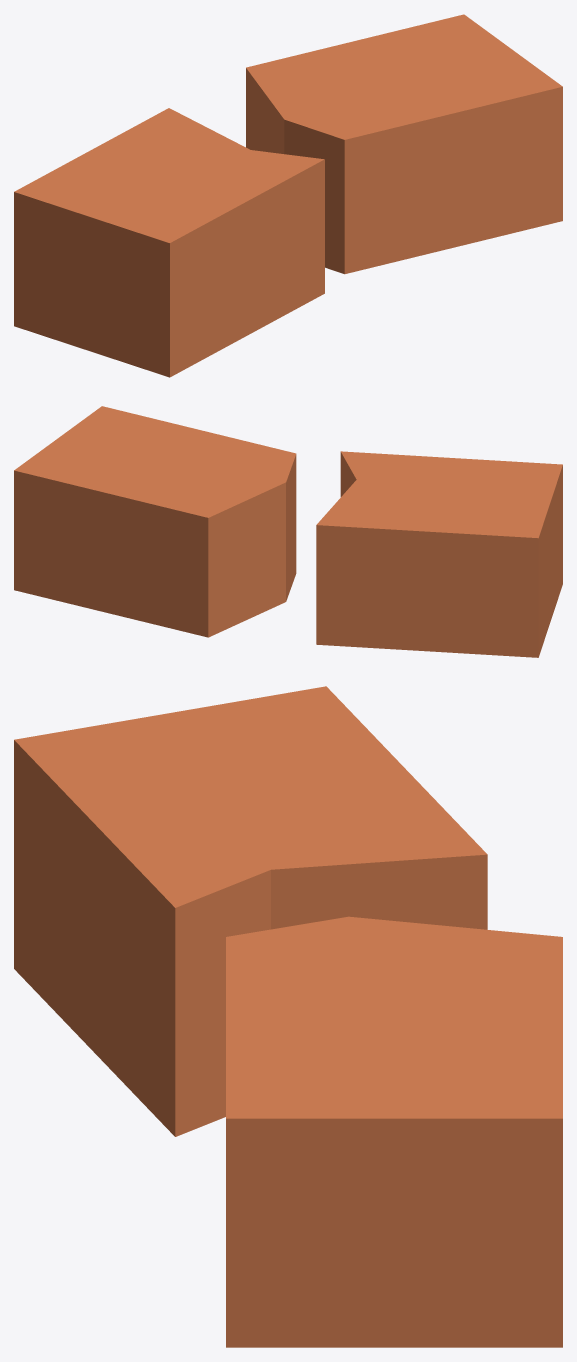
Rendered from Brick_crk_01.fbx.
The picture shows the model from 3 angles, top to bottom: view 1: azimuth 30°, elevation 25°; view 2: azimuth 150°, elevation 25°; view 3: azimuth 270°, elevation 25°; orthographic projection. The views are drawn at different scales.
Parts seen in each view (by area): view 1: Brick_crk_01; view 2: Brick_crk_01; view 3: Brick_crk_01.
Boxes of the visible parts, <box> form: Brick_crk_01: <box>14,14,562,377</box>; Brick_crk_01: <box>14,406,562,657</box>; Brick_crk_01: <box>14,686,562,1347</box>.
Size of the model in its own units: 30.35 by 7.5 by 16.29.
